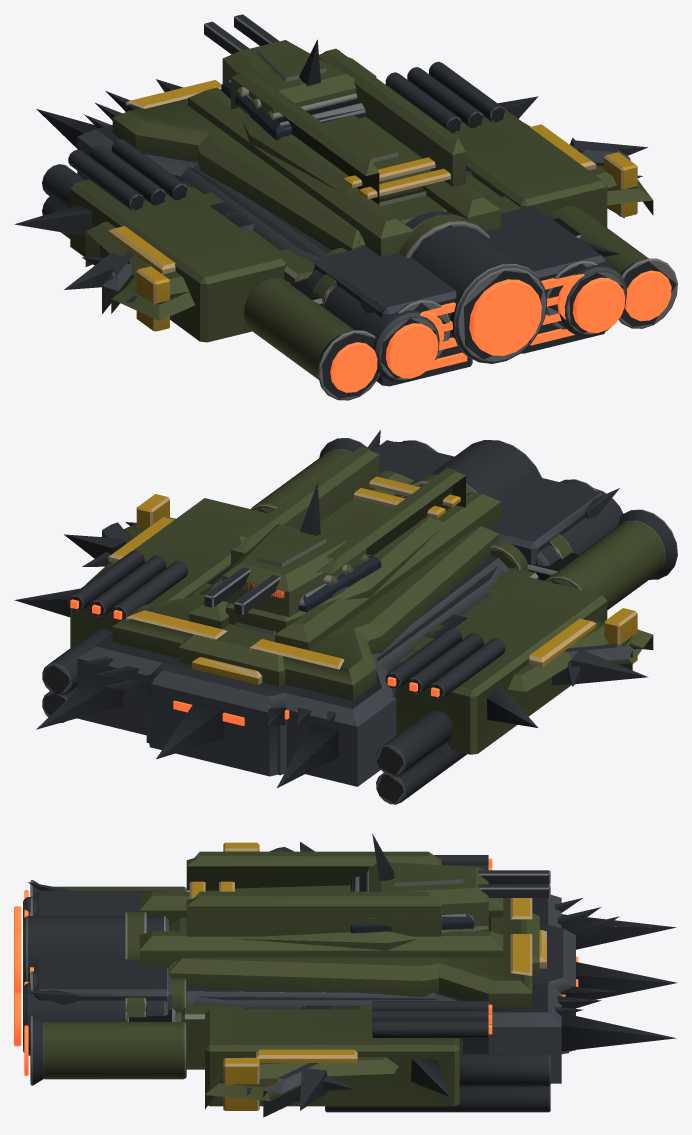
Rendered from hero-ironclad-kit.glb.
3 views of the same model, one above another, from view 1: azimuth 30°, elevation 25°; view 2: azimuth 150°, elevation 25°; view 3: azimuth 270°, elevation 25° (orthographic). The views are drawn at different scales.
Parts seen in each view (by area): view 1: hero_ironclad_wings_c, hero_ironclad_engines_b, hero_ironclad_hull_c, hero_ironclad_hull_a, hero_ironclad_engines_c, hero_ironclad_engines_a, hero_ironclad_hull_b, hero_ironclad_wings_a, hero_ironclad_wings_b, hero_ironclad_cockpit_a, hero_ironclad_cockpit_c, hero_ironclad_cockpit_b; view 2: hero_ironclad_wings_c, hero_ironclad_hull_c, hero_ironclad_hull_b, hero_ironclad_hull_a, hero_ironclad_wings_a, hero_ironclad_engines_c, hero_ironclad_engines_a, hero_ironclad_cockpit_a, hero_ironclad_engines_b, hero_ironclad_wings_b, hero_ironclad_cockpit_b, hero_ironclad_cockpit_c; view 3: hero_ironclad_hull_c, hero_ironclad_wings_c, hero_ironclad_hull_a, hero_ironclad_hull_b, hero_ironclad_engines_c, hero_ironclad_wings_a, hero_ironclad_engines_b, hero_ironclad_engines_a, hero_ironclad_cockpit_a, hero_ironclad_wings_b, hero_ironclad_cockpit_b, hero_ironclad_cockpit_c.
Part boxes in pixels (box(x1,y1,x2,y2)): hero_ironclad_wings_c: box(14, 61, 642, 342); hero_ironclad_engines_b: box(306, 211, 626, 382); hero_ironclad_hull_c: box(84, 48, 522, 282); hero_ironclad_hull_a: box(156, 79, 492, 263); hero_ironclad_engines_c: box(244, 206, 677, 400); hero_ironclad_engines_a: box(314, 205, 619, 386); hero_ironclad_hull_b: box(36, 50, 446, 248); hero_ironclad_wings_a: box(42, 123, 647, 294); hero_ironclad_wings_b: box(82, 138, 653, 331); hero_ironclad_cockpit_a: box(222, 39, 356, 120); hero_ironclad_cockpit_c: box(221, 79, 365, 140); hero_ironclad_cockpit_b: box(204, 14, 279, 116); hero_ironclad_wings_c: box(14, 498, 642, 754); hero_ironclad_hull_c: box(84, 447, 538, 776); hero_ironclad_hull_b: box(36, 555, 490, 787); hero_ironclad_hull_a: box(112, 476, 528, 775); hero_ironclad_wings_a: box(42, 516, 648, 804); hero_ironclad_engines_c: box(251, 438, 677, 609); hero_ironclad_engines_a: box(367, 429, 619, 564); hero_ironclad_cockpit_a: box(222, 483, 366, 617); hero_ironclad_engines_b: box(396, 440, 623, 565); hero_ironclad_wings_b: box(82, 494, 653, 686); hero_ironclad_cockpit_b: box(204, 549, 347, 614); hero_ironclad_cockpit_c: box(298, 554, 381, 612); hero_ironclad_hull_c: box(139, 851, 619, 1068); hero_ironclad_wings_c: box(205, 855, 492, 1106); hero_ironclad_hull_a: box(168, 881, 677, 1069); hero_ironclad_hull_b: box(168, 894, 676, 1083); hero_ironclad_engines_c: box(24, 880, 186, 1085); hero_ironclad_wings_a: box(241, 842, 550, 1112); hero_ironclad_engines_b: box(14, 897, 168, 1055); hero_ironclad_engines_a: box(27, 882, 172, 1010); hero_ironclad_cockpit_a: box(368, 833, 488, 926); hero_ironclad_wings_b: box(205, 842, 353, 1117); hero_ironclad_cockpit_b: box(415, 870, 550, 897); hero_ironclad_cockpit_c: box(350, 870, 474, 933).
Size of the model in its own units: 1.75 by 0.609 by 1.82.
